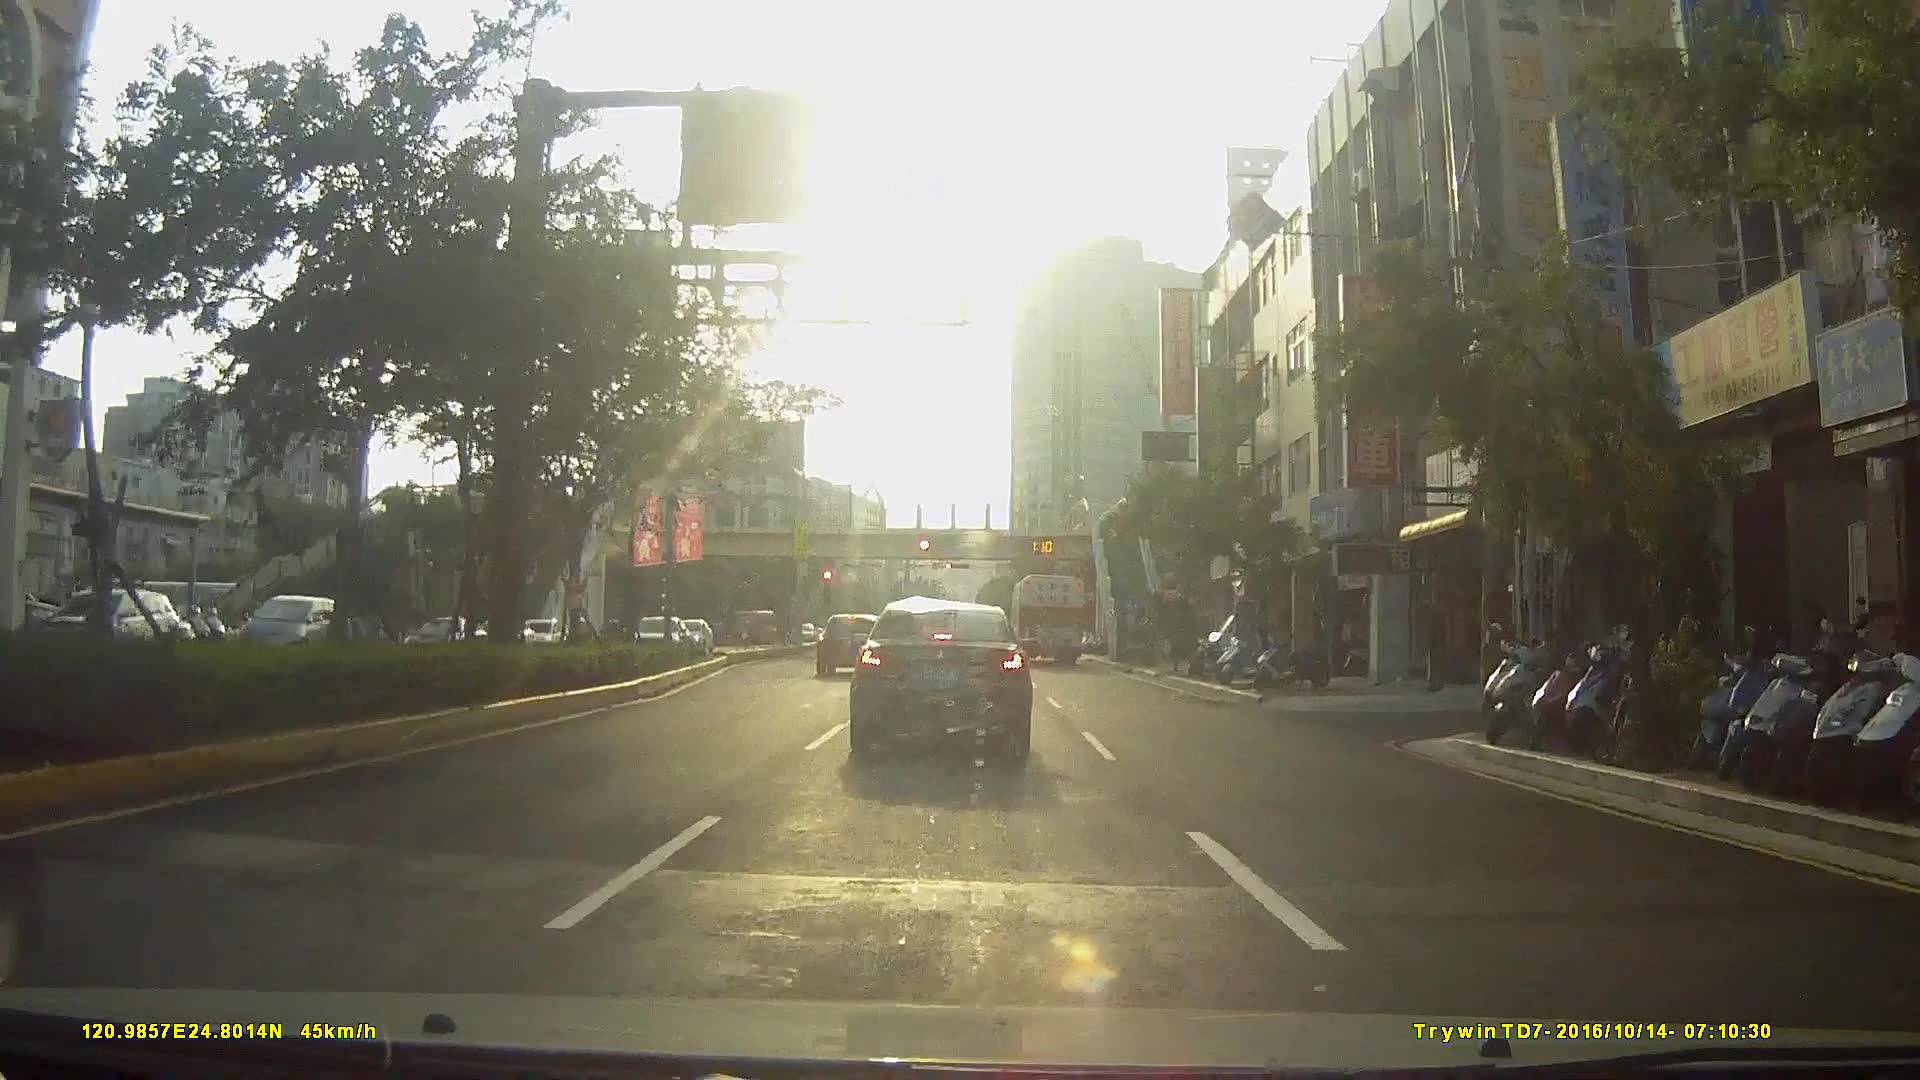vehicle: (847, 597, 1034, 761), (131, 529, 232, 676), (1006, 570, 1087, 667), (231, 593, 349, 659), (815, 611, 884, 679)
